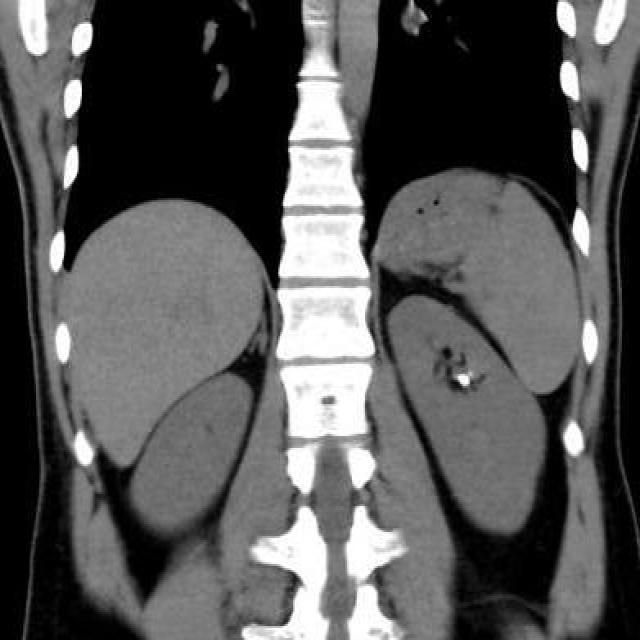Tas_Var: (457, 372, 471, 388), (468, 370, 476, 376)
